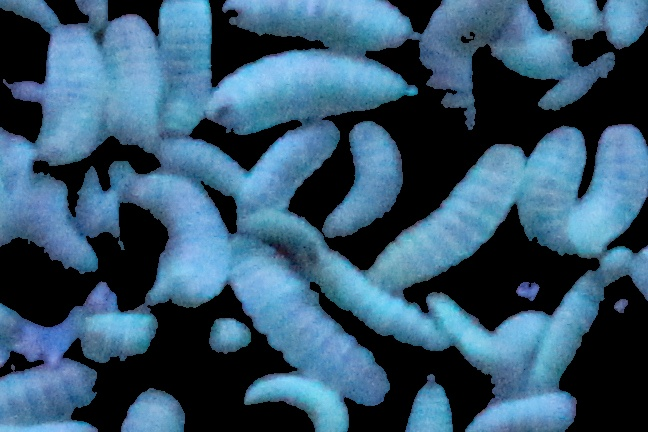larvae: (225, 238, 386, 404), (374, 145, 520, 287), (519, 126, 648, 260), (212, 51, 414, 134), (126, 172, 231, 307), (421, 1, 524, 129), (316, 255, 447, 349), (35, 20, 108, 163), (238, 121, 342, 216), (219, 1, 413, 50), (530, 268, 603, 390), (101, 14, 161, 144), (330, 121, 399, 234), (157, 1, 213, 138), (27, 178, 98, 273), (1, 360, 103, 424), (247, 369, 352, 430), (488, 307, 552, 394), (496, 9, 571, 80), (462, 393, 574, 432), (428, 293, 489, 364), (162, 135, 241, 189), (77, 315, 158, 363), (409, 370, 455, 432)
